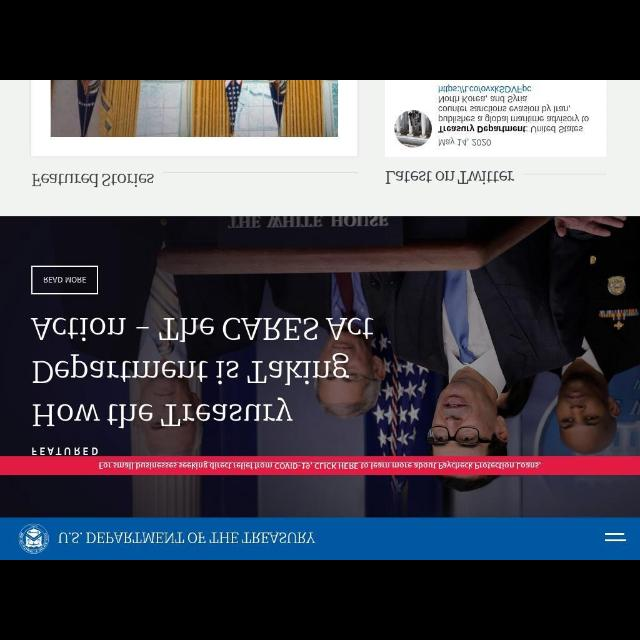backgroundimage: (1, 217, 639, 517)
icon: (604, 532, 628, 542)
image: (50, 81, 338, 137), (394, 110, 432, 148), (19, 524, 49, 554)
text: (29, 316, 374, 428), (437, 84, 589, 134), (57, 531, 315, 545), (99, 461, 542, 469), (33, 172, 154, 188), (386, 170, 514, 184), (32, 446, 98, 456), (438, 138, 492, 146), (43, 276, 87, 282)
textbutton: (32, 266, 98, 294)
toolbar: (1, 518, 639, 560)
